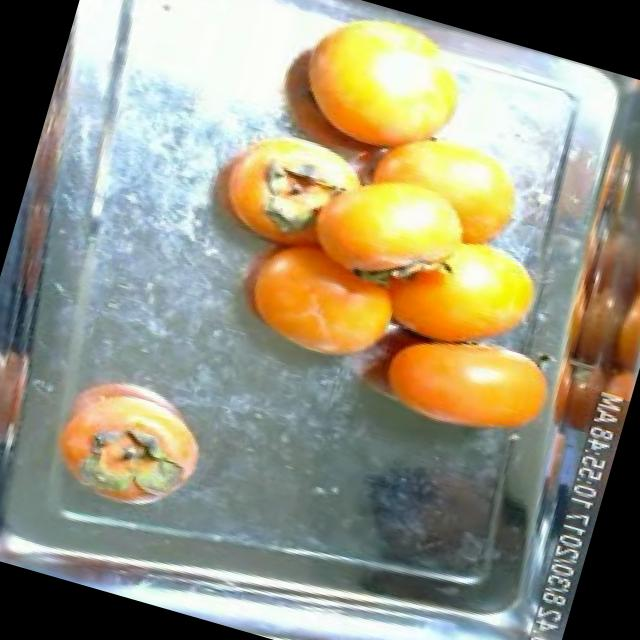Fruit: (28, 351, 230, 533), (358, 314, 568, 464), (366, 108, 548, 268)
